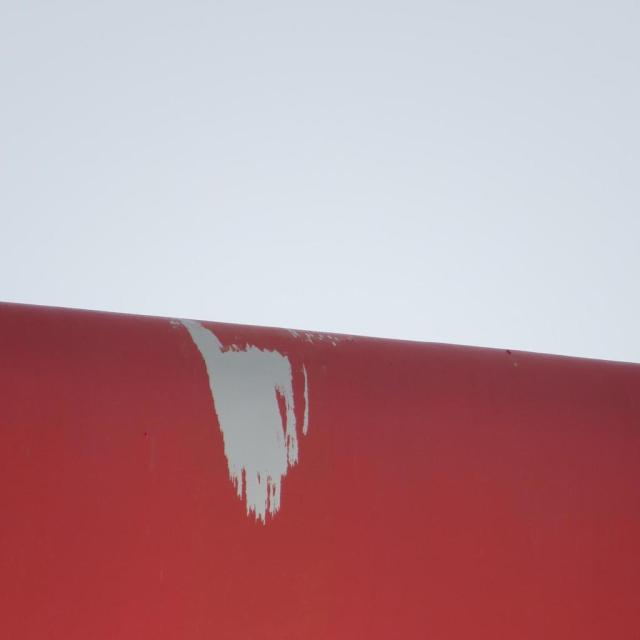corrosion: (175, 316, 318, 526)
